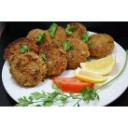cutlet: (12, 55, 46, 84), (40, 46, 68, 75), (86, 33, 117, 54), (66, 39, 87, 67), (6, 37, 33, 58), (26, 29, 51, 51), (64, 23, 89, 40), (47, 25, 67, 43)
